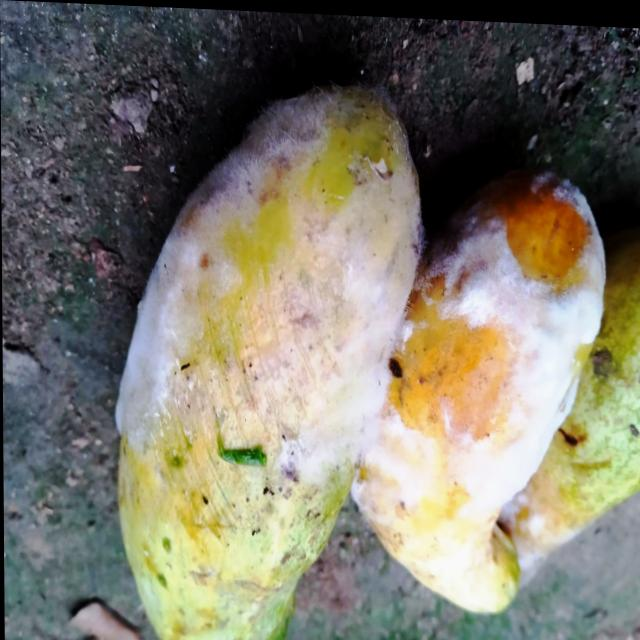Pythium-Fruit-Rot: (110, 76, 431, 531), (345, 151, 616, 596)
